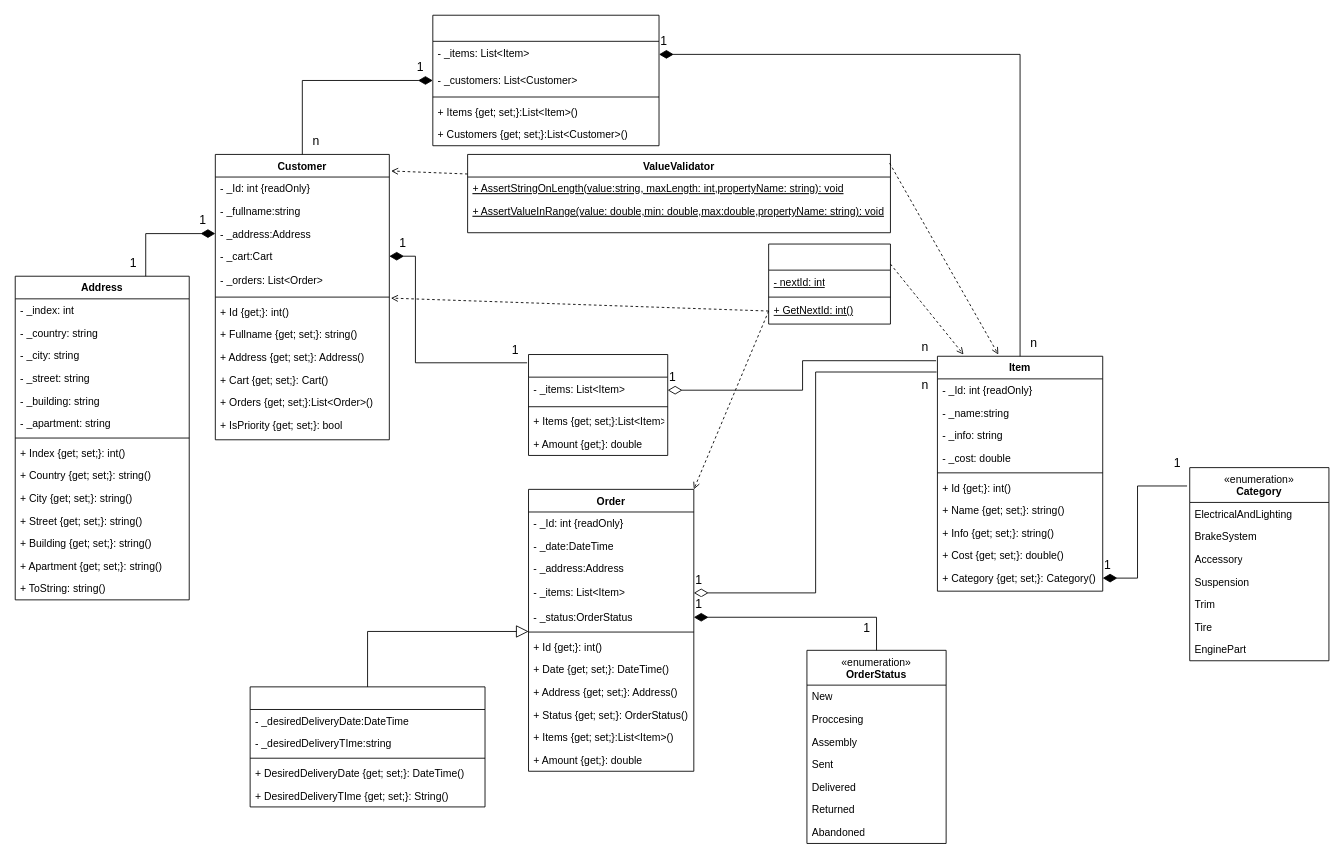
Image size: 1344x861. Some labels were removed from this diagram. The shapes that lost their labels are listed below. From the top down, each one's box as (x1, y1, x2, y2) in pixels, then its label:
(432, 14, 659, 146): Store
(768, 243, 890, 324): IdGenerator
(528, 354, 668, 455): Cart
(249, 686, 485, 807): Priority Order
